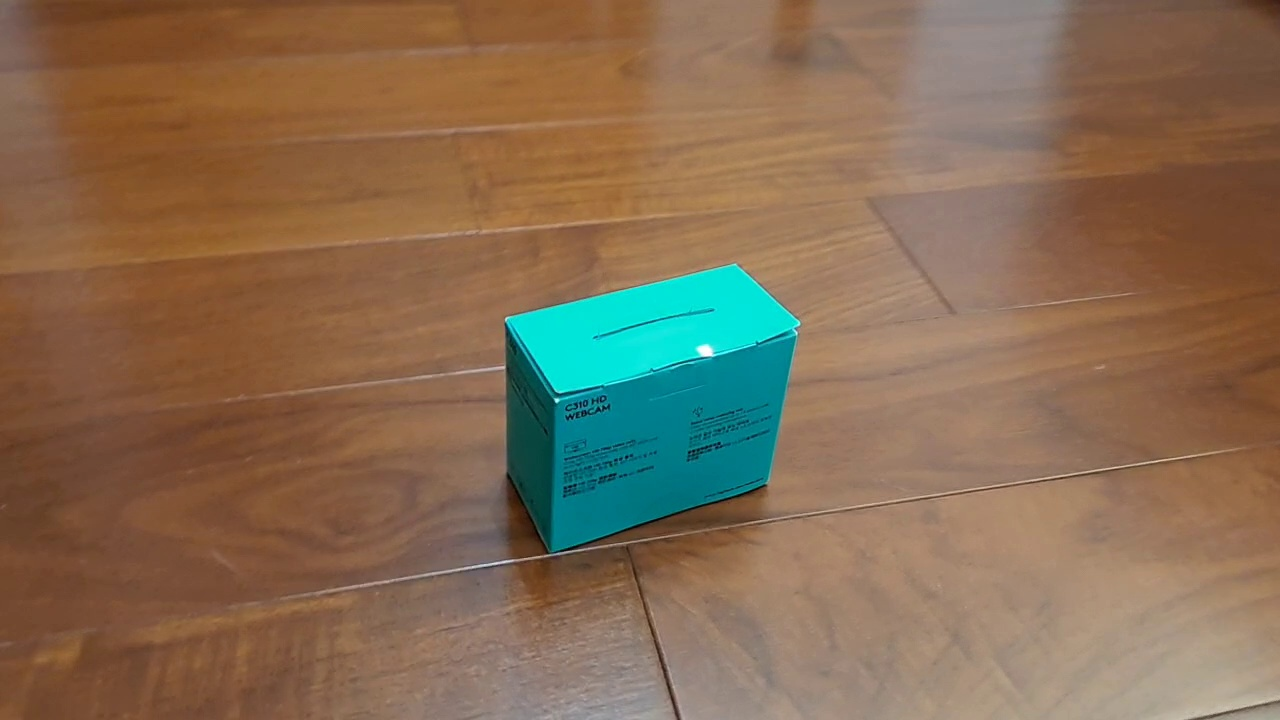webcam: (503, 261, 802, 555)
